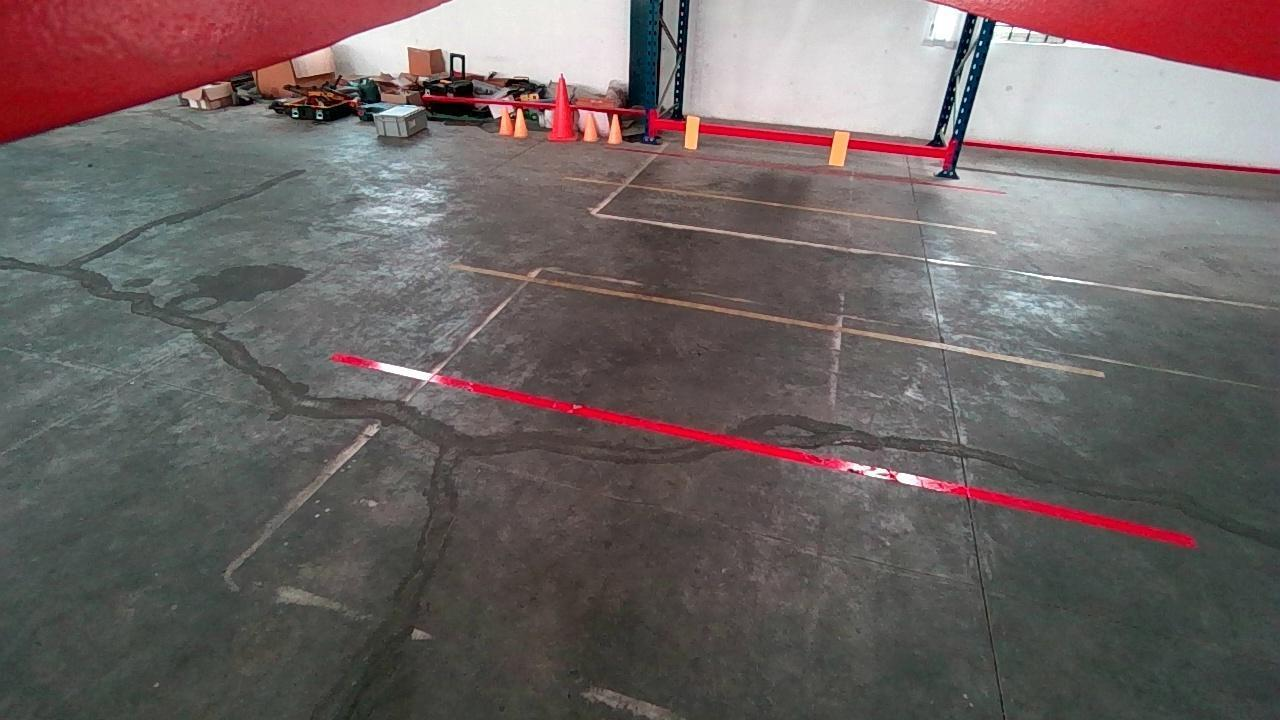h_rack: (658, 119, 947, 157)
orange_strip: (829, 129, 850, 166), (685, 115, 701, 146)
red_line: (333, 349, 1195, 546), (605, 146, 1008, 194)
yellow_line: (446, 261, 1104, 379), (566, 174, 998, 236)
